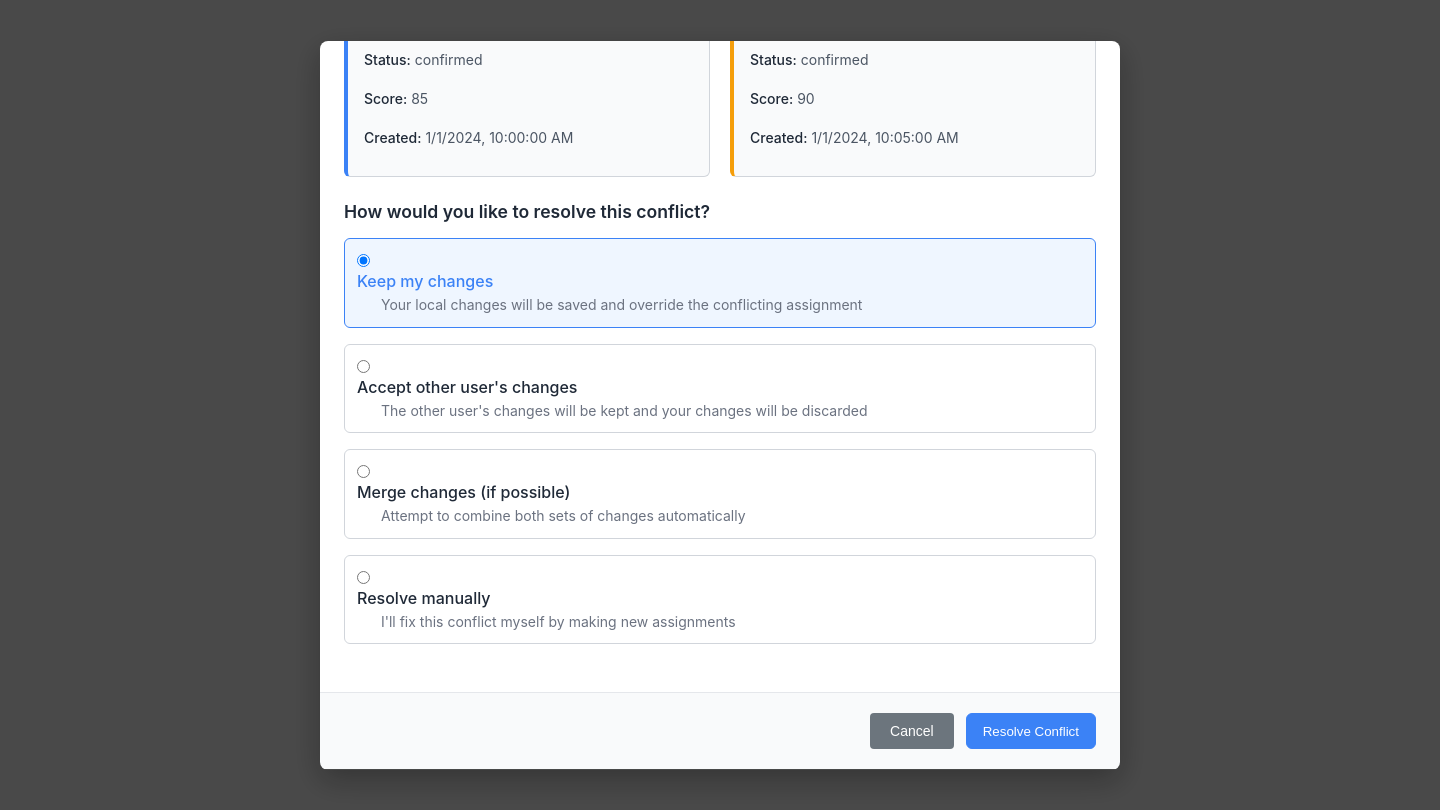
Test: ConflictResolutionModal › disables buttons when resolving
(page scrolled)
Click the button "Resolve Conflict": click(1031, 732) top-left (966, 714), bottom-right (1096, 750)
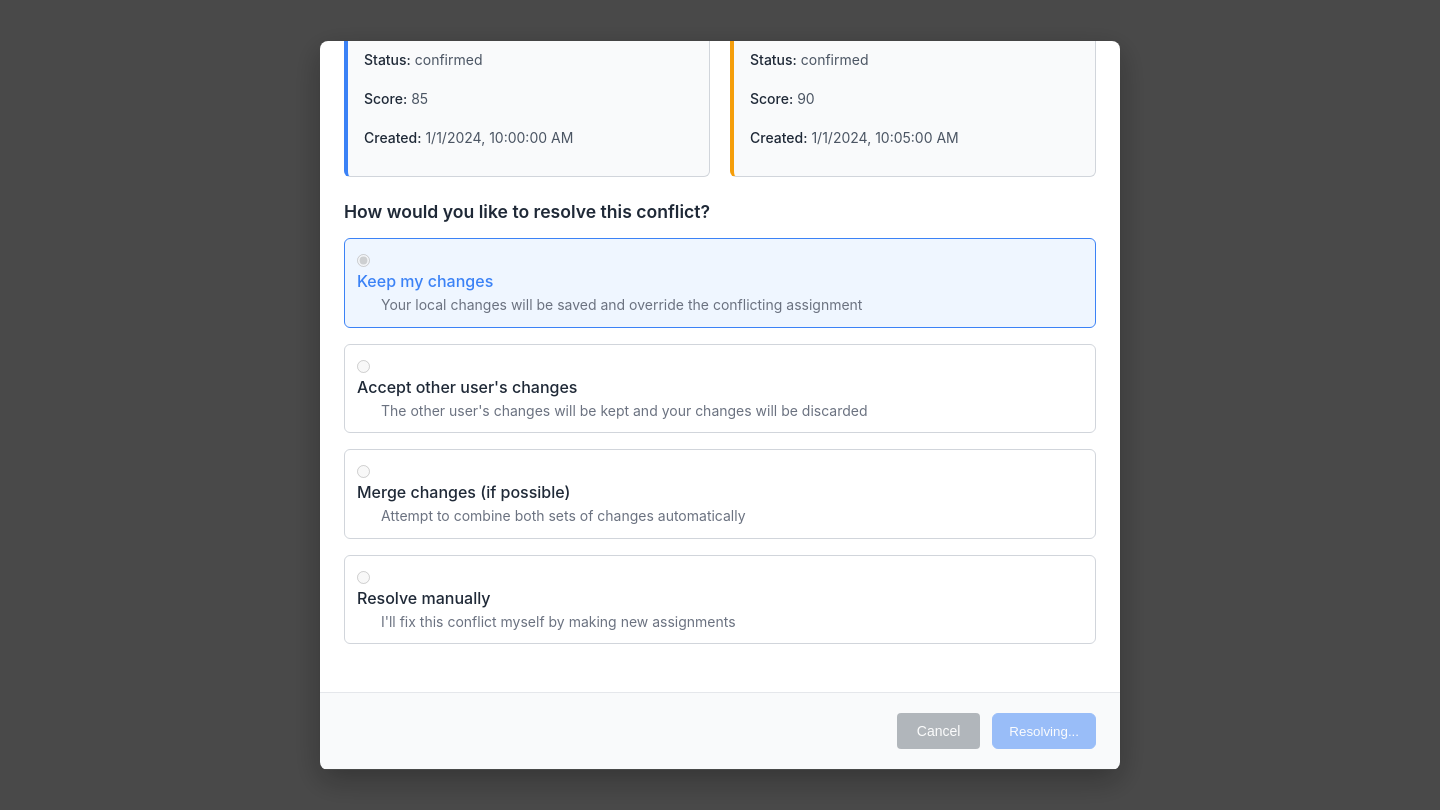
Result: the button "Resolve Conflict" is disabled at top-left (992, 714), bottom-right (1096, 750)
Result: the button "Cancel" is disabled at top-left (897, 714), bottom-right (980, 750)
